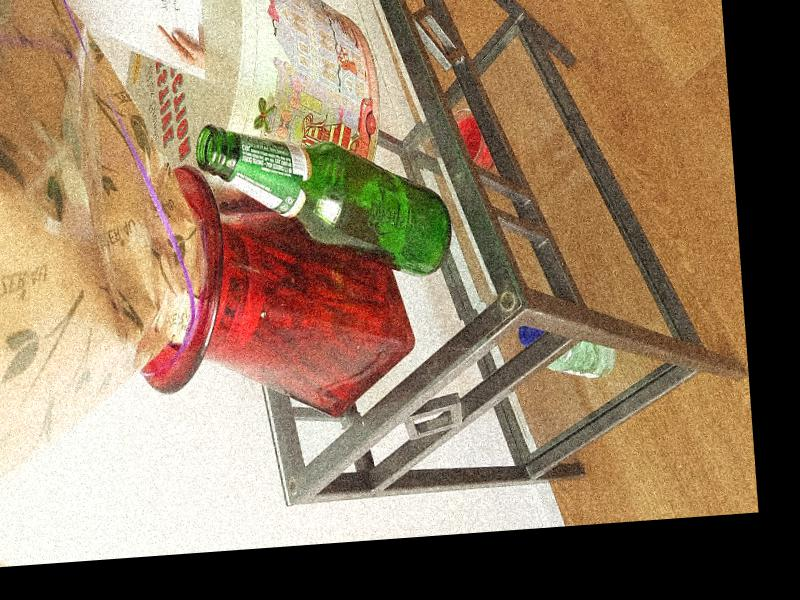Beer: (194, 110, 454, 291)
